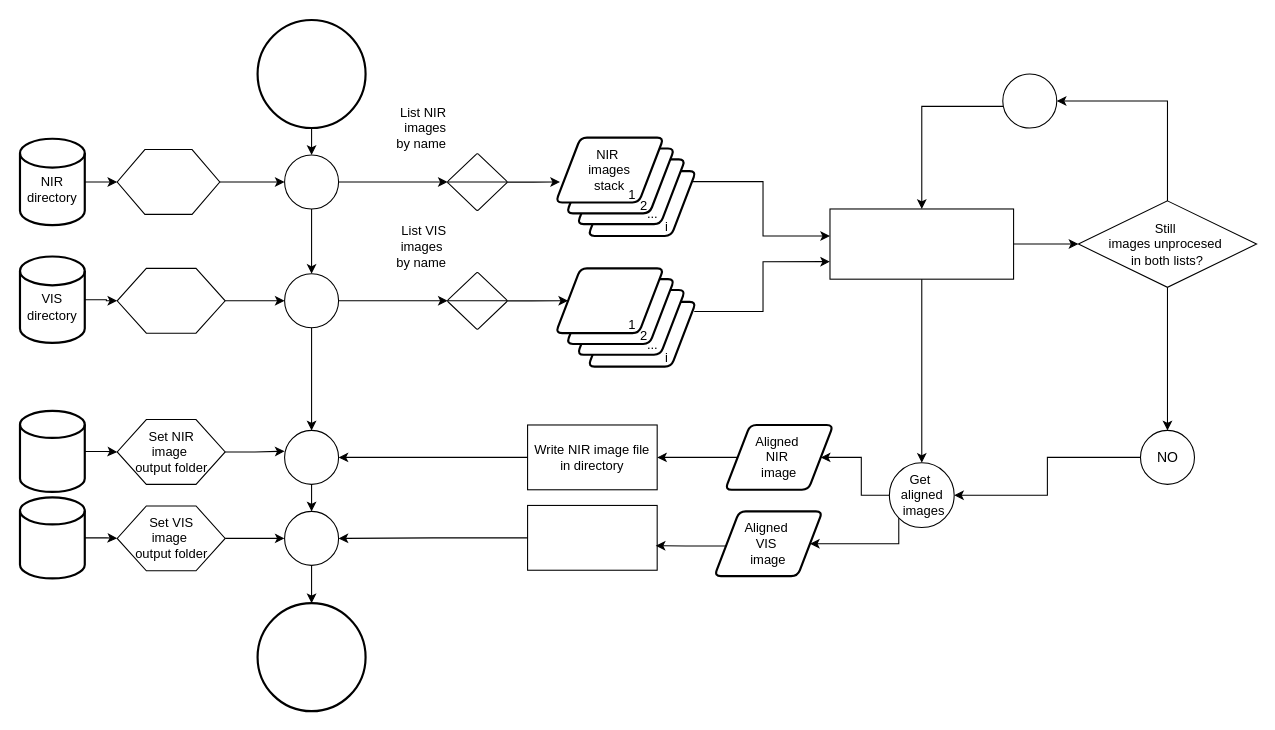
This 1275x730 diagram has some shape labels left out. Each missing label, with the box of its shape:
Align i NIR and i VIS image pairs: (829, 208, 1014, 279)
Aligned NIR directory: (18, 409, 85, 492)
Aligned VIS directory: (18, 496, 85, 579)
END: (256, 602, 366, 712)
Set NIR image imput folder: (116, 148, 220, 214)
Set VIS image imput folder: (116, 267, 225, 333)
START: (256, 18, 366, 129)
VIS images stack: (554, 267, 664, 334)
Write VIS image file in output directory: (526, 504, 657, 570)
YES: (1002, 73, 1057, 128)
